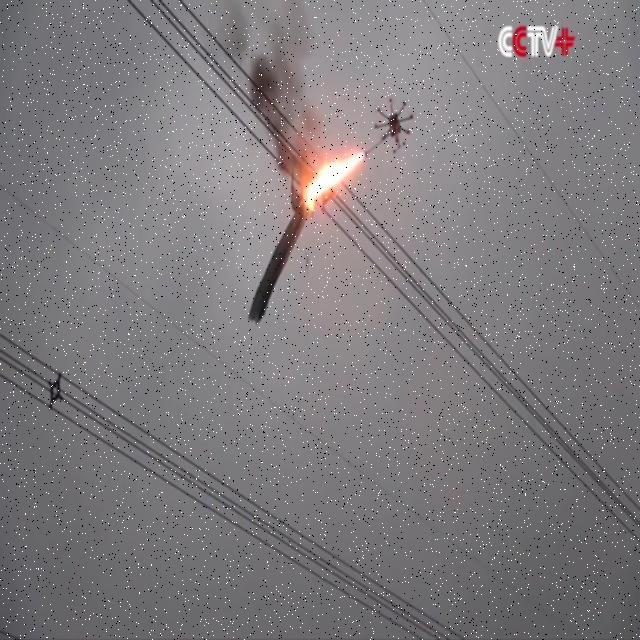UAV: (365, 98, 413, 157)
